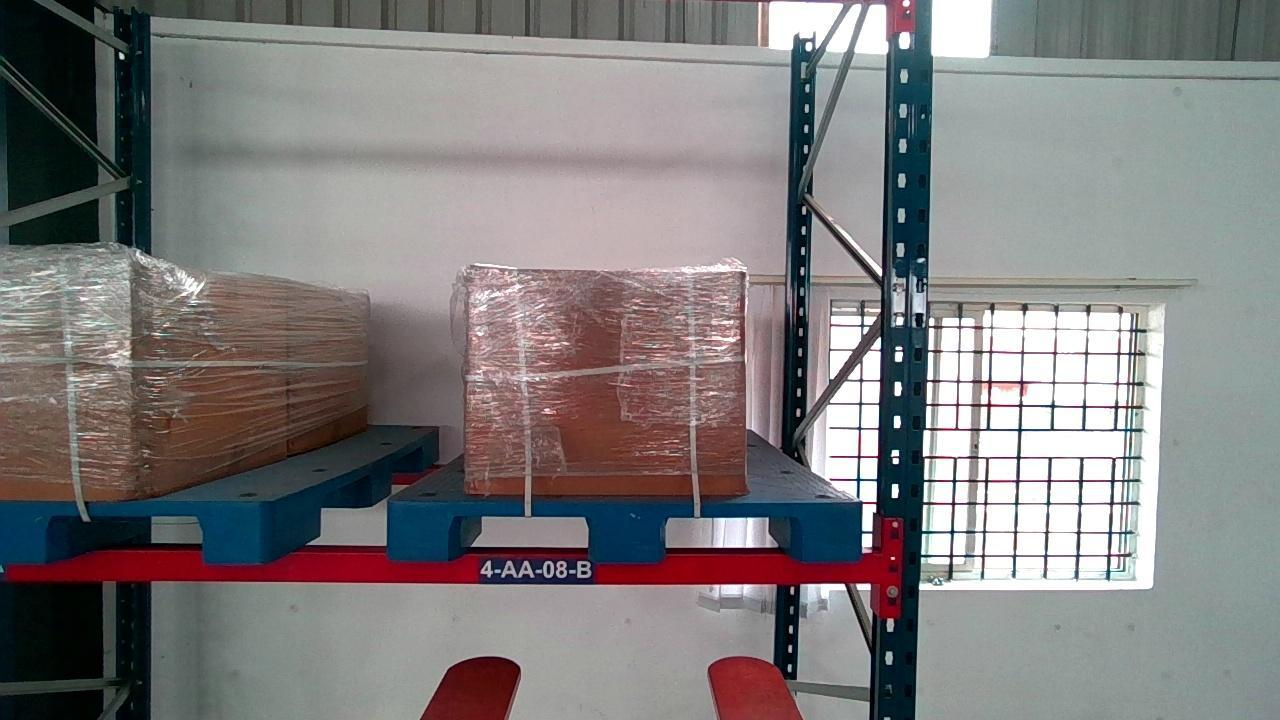h_rack: (0, 551, 878, 581)
small_pallet: (388, 501, 864, 558), (0, 500, 262, 560)
